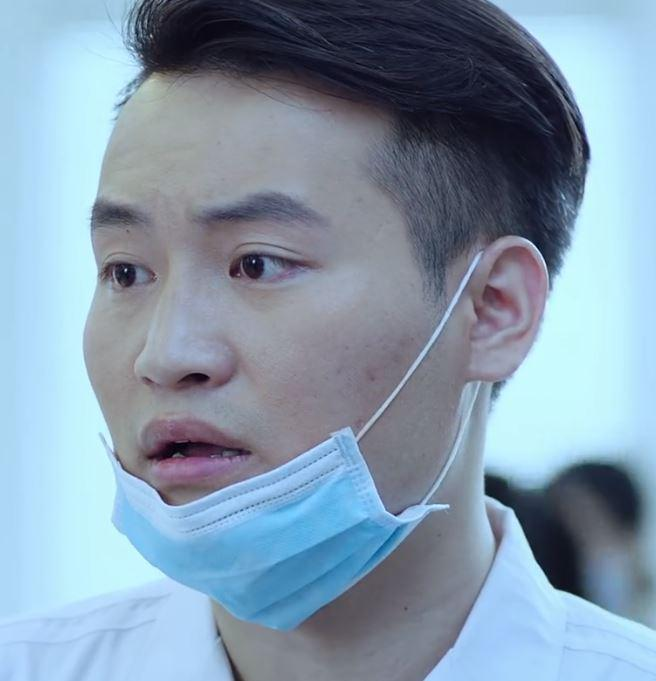WRONG: (87, 127, 404, 568)
